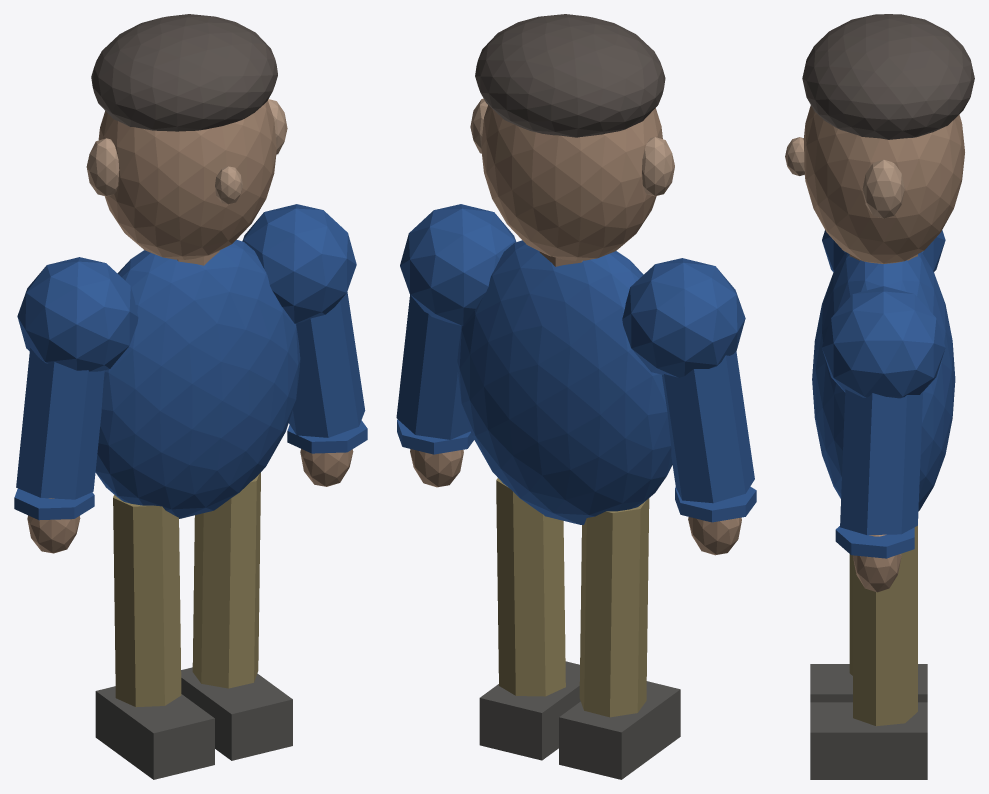
The model's file is ped_1.glb.
The picture shows the model from 3 angles, left to right: view 1: azimuth 30°, elevation 25°; view 2: azimuth 150°, elevation 25°; view 3: azimuth 270°, elevation 25°; orthographic projection.
Visible parts, largest first — view 1: body, armR, legR, armL, legL; view 2: body, armR, legR, armL, legL; view 3: body, armL, legL, legR, armR.
Boxes of the visible parts, bbox=[...] form: body: bbox=[86, 14, 300, 518]; armR: bbox=[14, 257, 138, 553]; legR: bbox=[95, 494, 214, 779]; armL: bbox=[242, 204, 367, 486]; legL: bbox=[181, 472, 292, 760]; body: bbox=[457, 14, 674, 524]; armR: bbox=[622, 258, 756, 555]; legR: bbox=[559, 498, 680, 779]; armL: bbox=[396, 204, 516, 487]; legL: bbox=[479, 478, 580, 760]; body: bbox=[785, 14, 974, 511]; armL: bbox=[822, 286, 945, 592]; legL: bbox=[810, 525, 927, 779]; legR: bbox=[810, 554, 927, 702]; armR: bbox=[822, 230, 945, 271].
Size of the model in its own units: 0.8703 by 1.72 by 0.4127.
